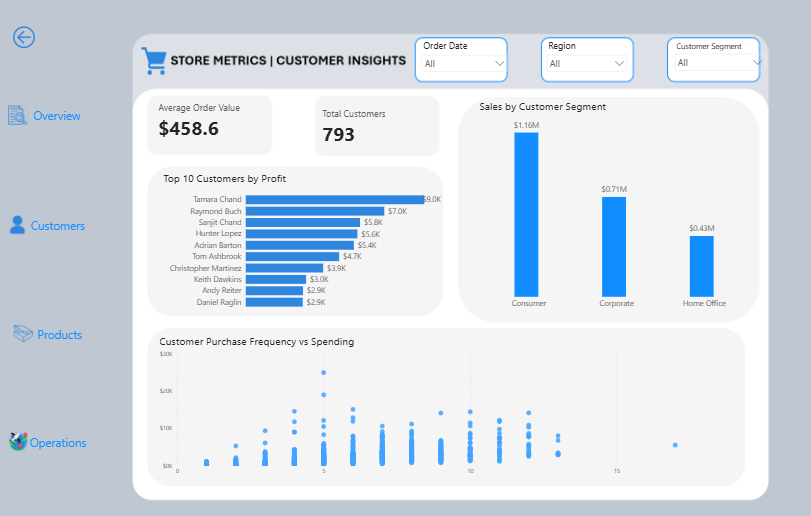

The page's visual inventory and layout, read from the dashboard file:
{"tool":"powerbi","page":{"name":"Customer Insights","canvas":[1920,1082],"ordinal":1},"visuals":[{"type":"cardVisual","fields":{"Data":["Dax Measures.Avg Order Value"]},"box":[370,203.4,274.8,114.7],"z":0},{"type":"clusteredBarChart","title":"Top 10 Customers by Profit","fields":{"Category":["Customers.Customer Name"],"Y":["Dax Measures.Total Profit"]},"box":[391.7,365.7,586.4,296.5],"z":1000},{"type":"cardVisual","fields":{"Data":["Dax Measures.Total Customers"]},"box":[709.8,216.4,251,114.7],"z":2000},{"type":"scatterChart","title":"Customer Purchase Frequency vs Spending","fields":{"X":["Dax Measures.Total Order"],"Y":["Dax Measures.Total Sales"],"Category":["Customers.Customer Name"]},"box":[385.2,703.3,1149.1,303],"z":3000},{"type":"clusteredColumnChart","title":" Sales by Customer Segment","fields":{"Category":["Customers.Customer Segment"],"Y":["Dax Measures.Total Sales"]},"box":[1049.5,216.4,580,445.8],"z":4000},{"type":"slicer","fields":{"Values":["Orders.Order Date.Variation.Date Hierarchy.Year","Orders.Order Date.Variation.Date Hierarchy.Month"]},"box":[924,86.6,196.9,86.6],"z":5000},{"type":"slicer","fields":{"Values":["States.Region"]},"box":[1183.7,86.6,186.1,101.7],"z":6000},{"type":"slicer","fields":{"Values":["Customers.Customer Segment"]},"box":[1449.9,88.7,207.7,114.7],"z":7000},{"type":"actionButton","box":[65.6,203.4,183.6,92.9],"z":9000},{"type":"actionButton","box":[66.3,660.3,181.9,85.9],"z":10000},{"type":"actionButton","box":[66.9,885.5,180.6,86.6],"z":11000},{"type":"actionButton","box":[65.7,434.4,183.1,86.6],"z":12000}]}

Visuals, with their boxes on the page's 1920x1082 design canvas (x1, y1, x2, y2). These are canvas units, not pixel positions in the 811x516 screenshot, which may show the page scaled, cropped or inside an application window:
cardVisual - Dax Measures.Avg Order Value: crop(370, 203, 645, 318)
"Top 10 Customers by Profit" clusteredBarChart: crop(392, 366, 978, 662)
cardVisual - Dax Measures.Total Customers: crop(710, 216, 961, 331)
"Customer Purchase Frequency vs Spending" scatterChart: crop(385, 703, 1534, 1006)
" Sales by Customer Segment" clusteredColumnChart: crop(1050, 216, 1630, 662)
slicer - Orders.Order Date.Variation.Date Hierarchy.Year x Orders.Order Date.Variation.Date Hierarchy.Month: crop(924, 87, 1121, 173)
slicer - States.Region: crop(1184, 87, 1370, 188)
slicer - Customers.Customer Segment: crop(1450, 89, 1658, 203)
actionButton: crop(66, 203, 249, 296)
actionButton: crop(66, 660, 248, 746)
actionButton: crop(67, 886, 248, 972)
actionButton: crop(66, 434, 249, 521)
